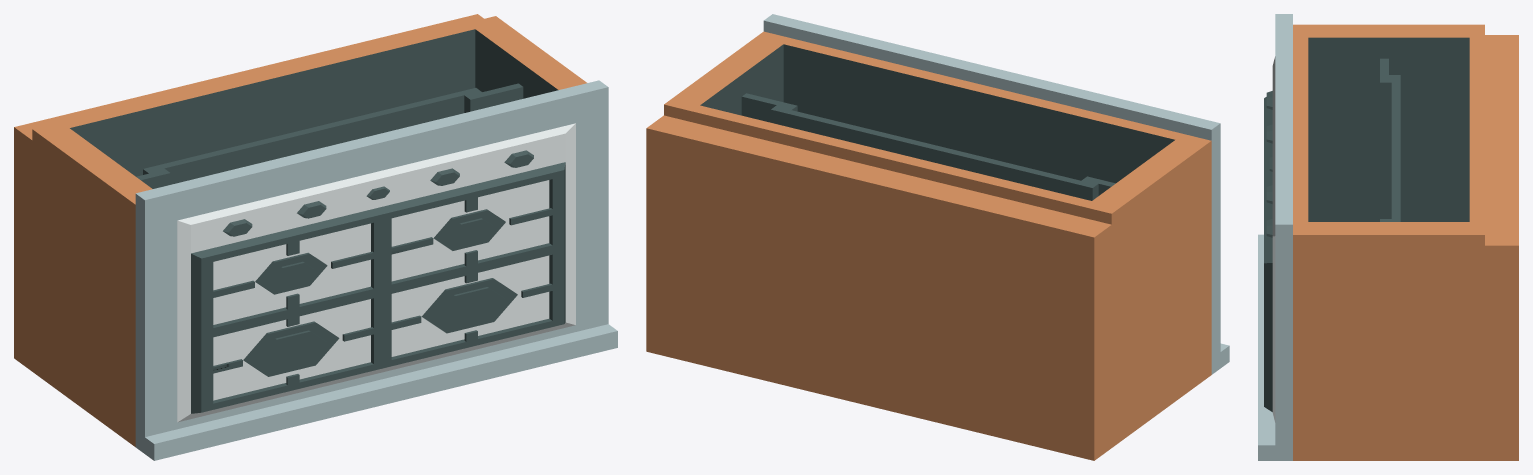
File: kitchenstove_visual.obj
3 views of the same model, side by side, from view 1: azimuth 30°, elevation 25°; view 2: azimuth 150°, elevation 25°; view 3: azimuth 270°, elevation 25° (orthographic). The views are drawn at different scales.
Visible parts, largest first — view 1: oven1.001_ID11.011; view 2: oven1.001_ID11.011; view 3: oven1.001_ID11.011.
Part boxes in pixels (x1,y1,x2,y2): oven1.001_ID11.011: [14, 14, 617, 460]; oven1.001_ID11.011: [646, 14, 1229, 460]; oven1.001_ID11.011: [1258, 14, 1518, 460].
Size of the model in its own units: 2.75 by 1.44 by 1.44.
